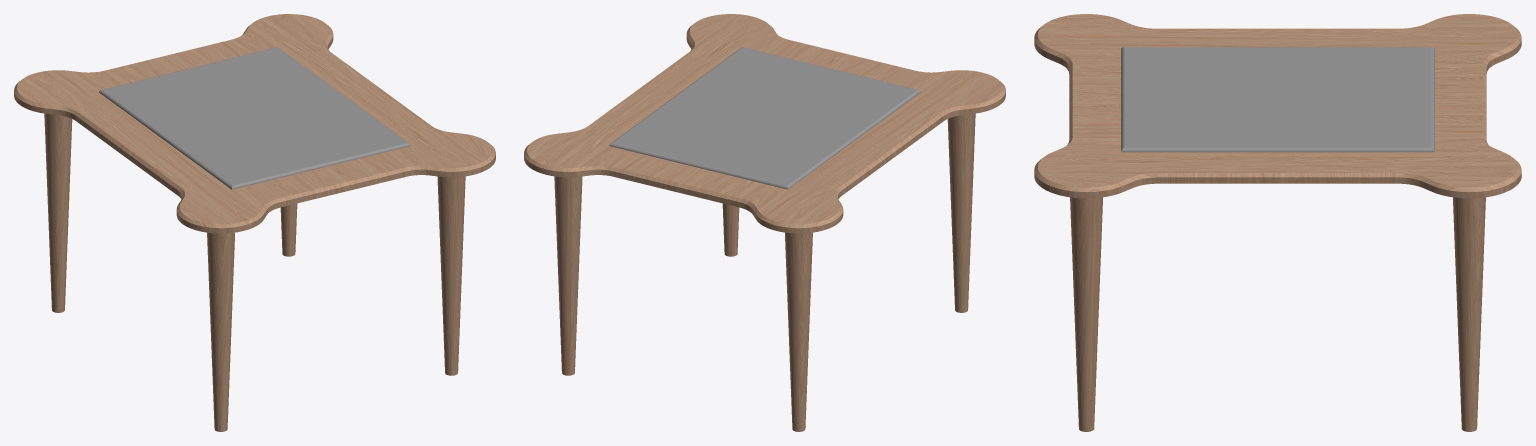
Rendered from MASA04.fbx.
3 renders of one model, left to right at view 1: azimuth 30°, elevation 25°; view 2: azimuth 150°, elevation 25°; view 3: azimuth 270°, elevation 25°, orthographic. The views are drawn at different scales.
Parts seen in each view (by area): view 1: Layer:MASA_AHSAP; view 2: Layer:MASA_AHSAP; view 3: Layer:MASA_AHSAP.
Part boxes in pixels (left/top/right/bottom): Layer:MASA_AHSAP: left=14, top=14, right=495, bottom=431; Layer:MASA_AHSAP: left=524, top=14, right=1005, bottom=431; Layer:MASA_AHSAP: left=1034, top=14, right=1521, bottom=431.
Bounding box in the file's own units: 120 × 84 × 140.
2 materials, 1 textured.
